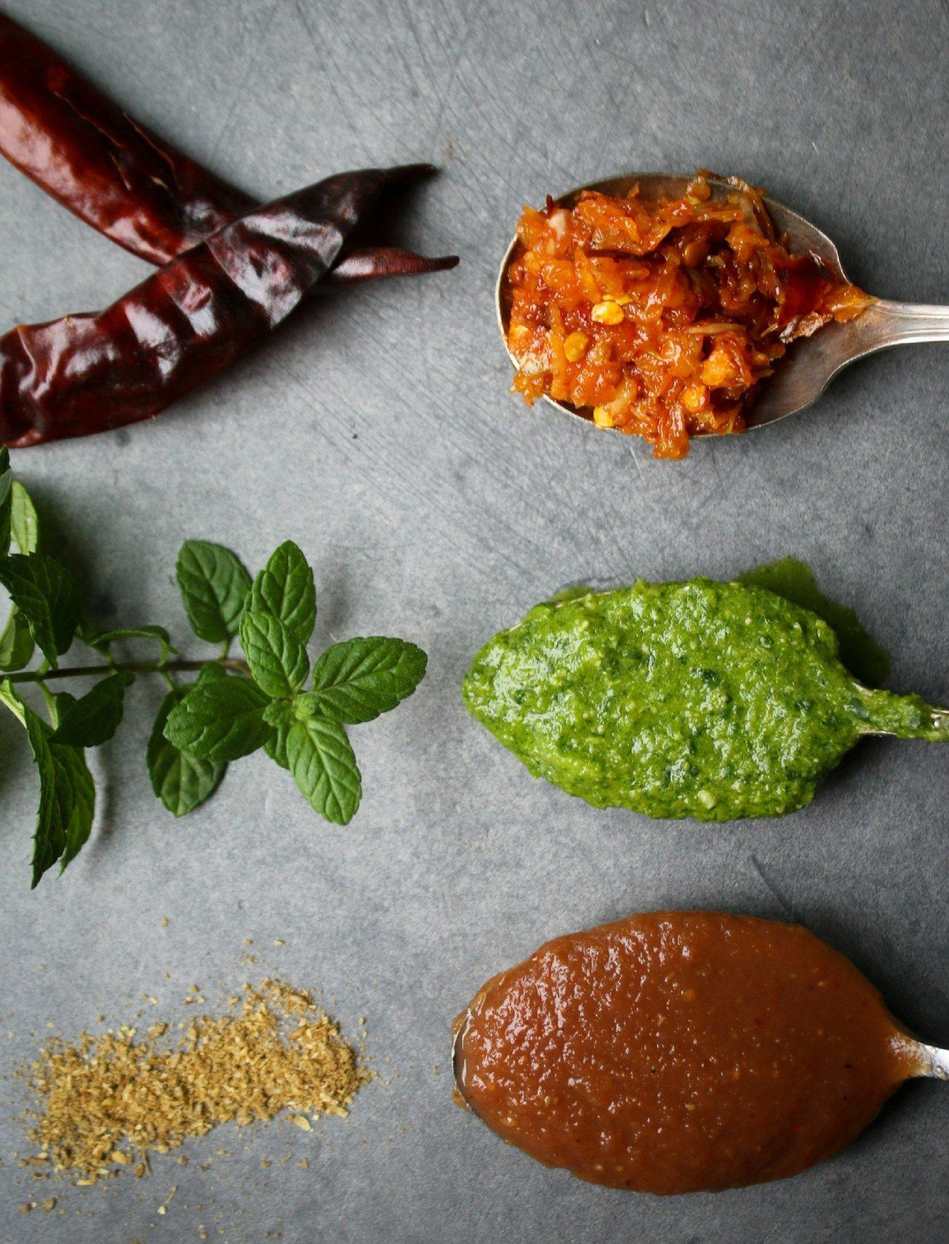GreenChutney: (469, 579, 936, 819)
